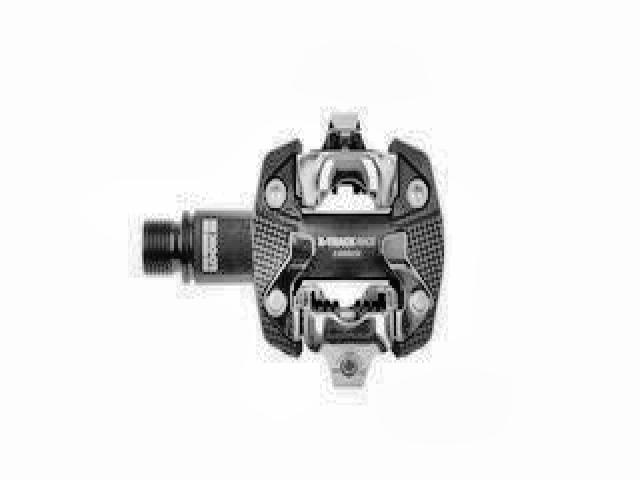pedal: (139, 112, 451, 397)
